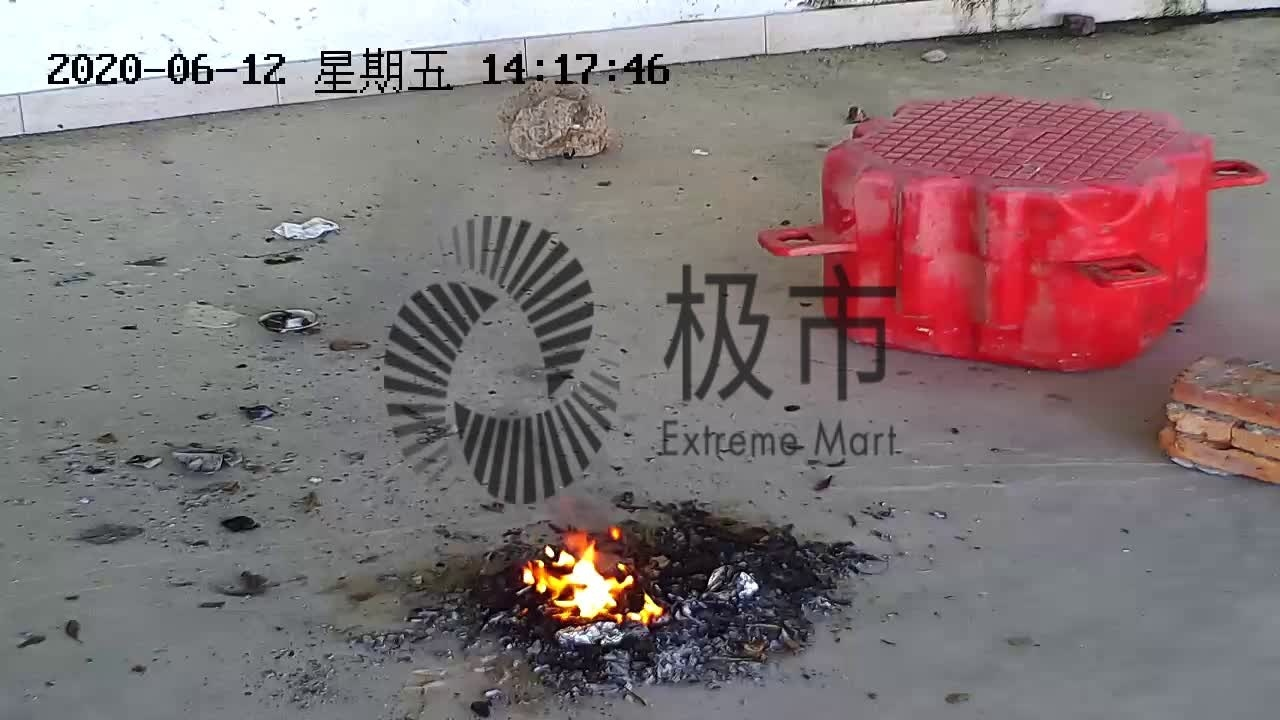fire: (516, 526, 671, 632)
